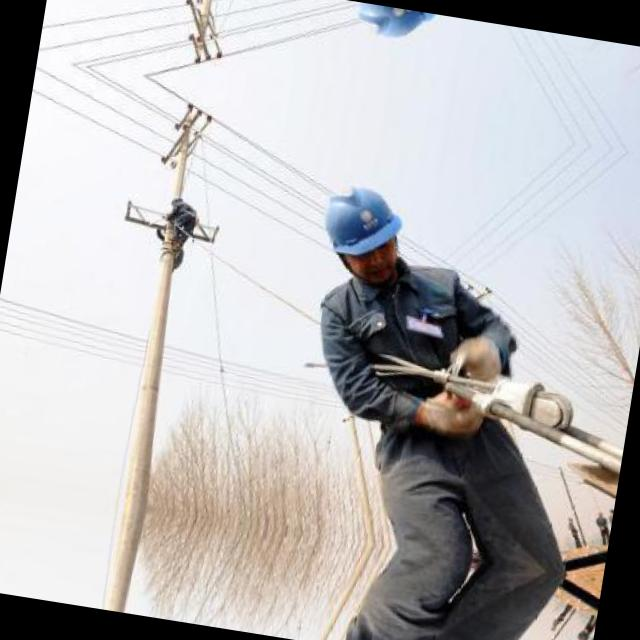helmet: (304, 165, 416, 294), (341, 1, 444, 62)
